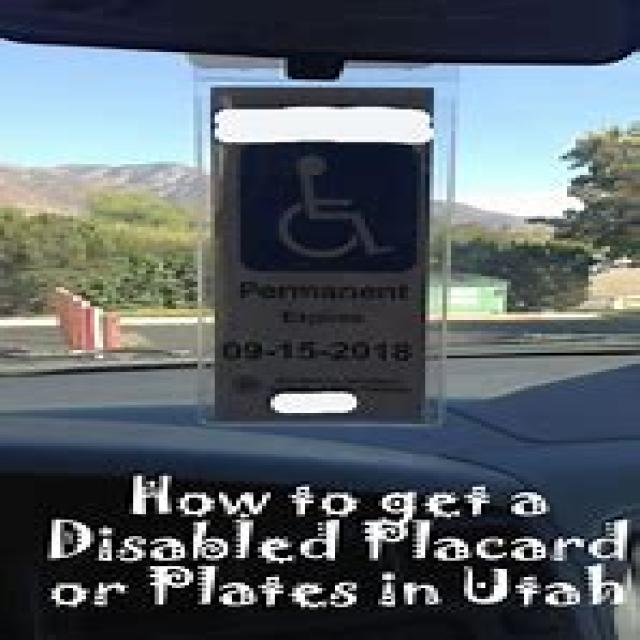car-handicap-placard: (266, 156, 398, 263)
